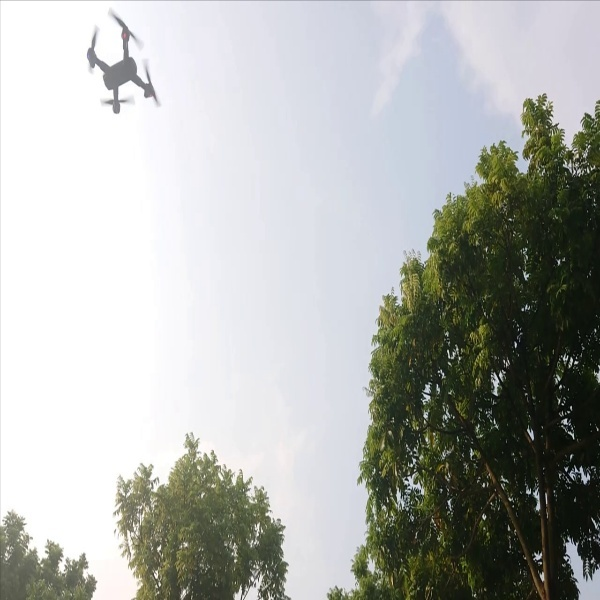drone: (73, 7, 173, 122)
